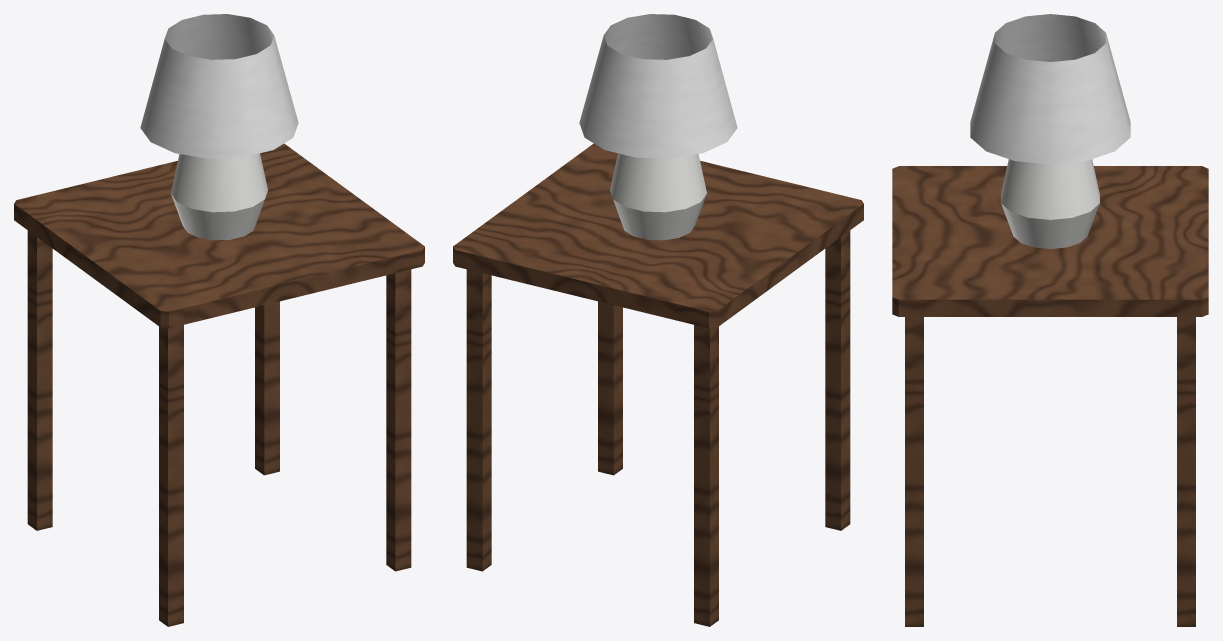
File: side_table_lamp.obj
3 views of the same model, side by side, from view 1: azimuth 30°, elevation 25°; view 2: azimuth 150°, elevation 25°; view 3: azimuth 270°, elevation 25° (orthographic). The views are drawn at different scales.
Visible parts, largest first — view 1: side_table_lamp; view 2: side_table_lamp; view 3: side_table_lamp.
Boxes of the visible parts, box(x1,y1,x2,y2) form: side_table_lamp: box(14, 14, 424, 626); side_table_lamp: box(453, 14, 863, 626); side_table_lamp: box(892, 14, 1208, 626).
Size of the model in its own units: 0.5 by 0.92 by 0.5.
Materials: 4 (2 with a texture image).
